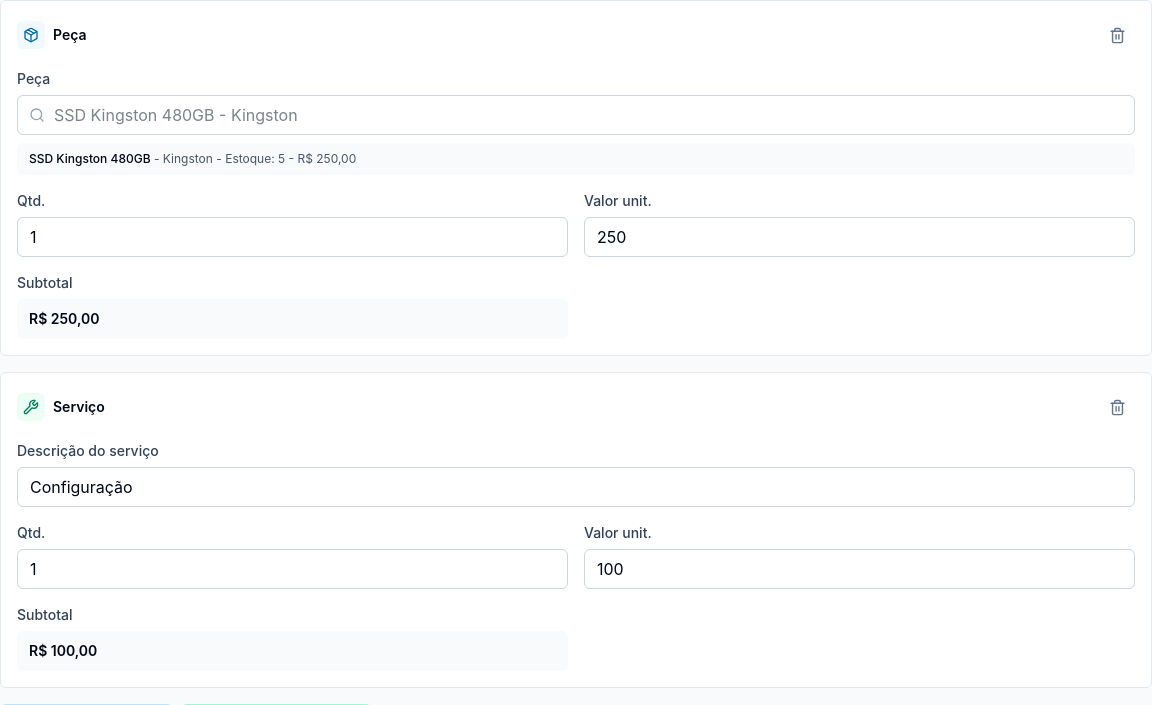
it: BudgetForm mixed budget experience › removes PART and SERVICE lines independently
This screenshot has width=1152, height=705.
Click the button named "remover serviço 2".
click(1117, 407)  # box [1099,389,1135,425]
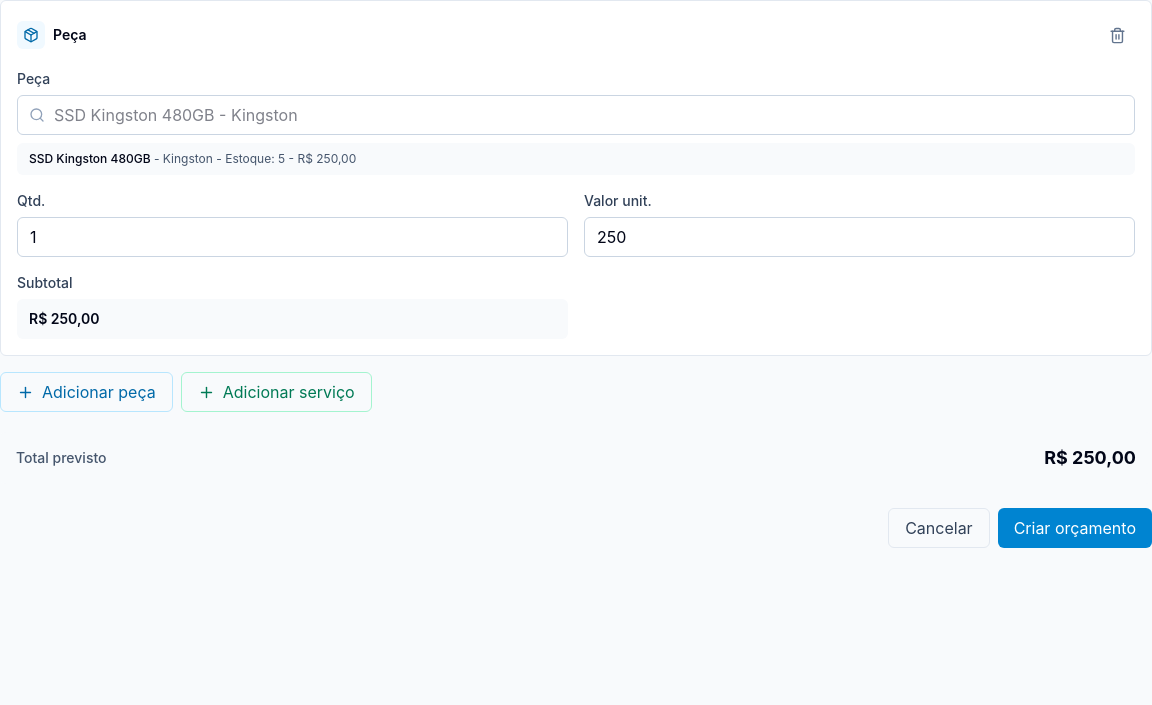
Check: the field showing "Configuração" is not shown
Click the button named "remover peça 1".
click(1117, 35)  # box [1099,17,1135,53]
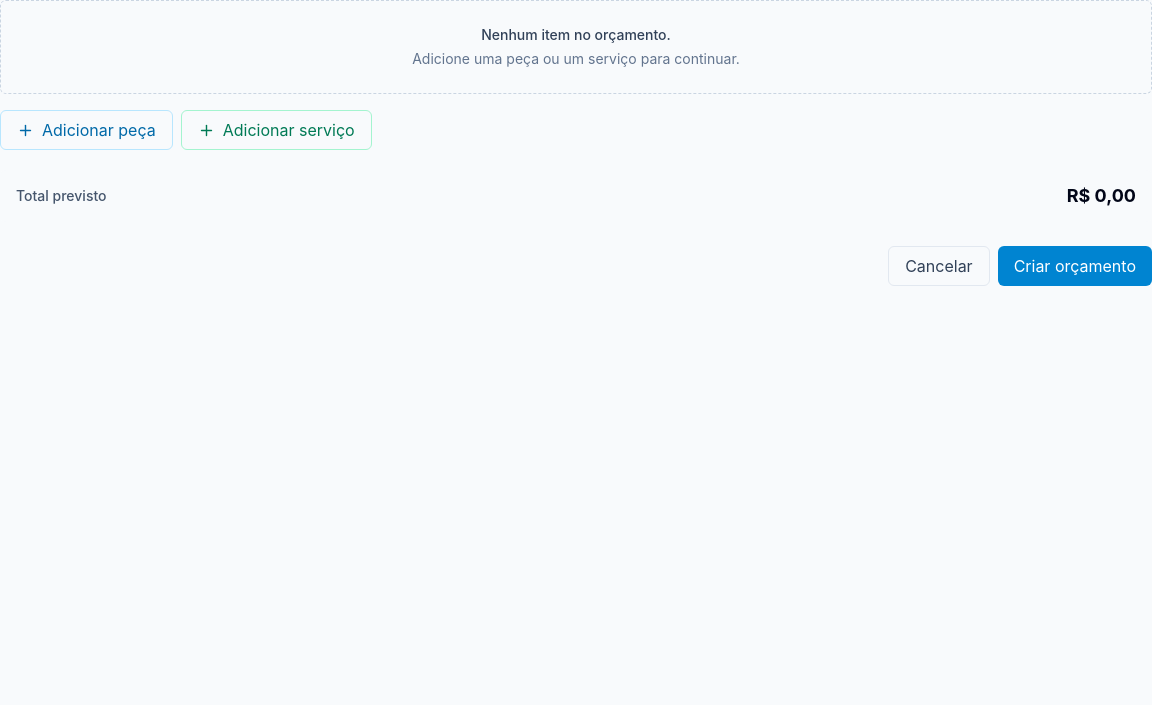
Check: the text "Nenhum item no orçamento." is shown, box [481,26,671,43]
